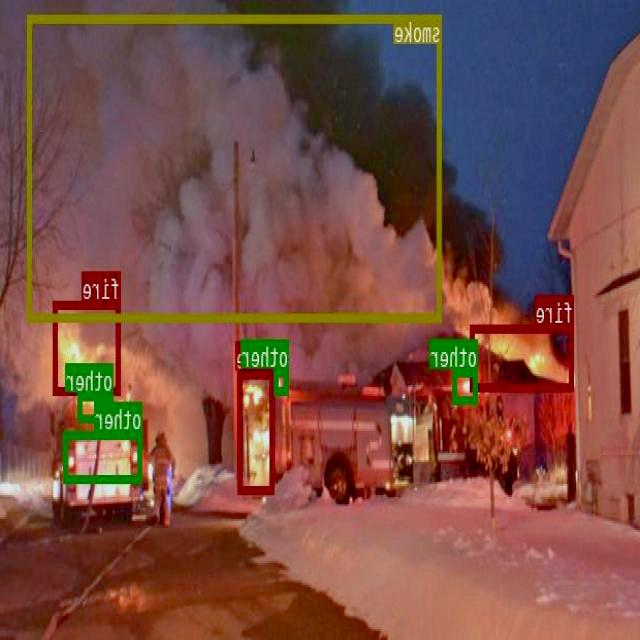fire: (472, 324, 574, 389), (54, 300, 122, 393), (239, 369, 275, 493)
smoke: (29, 14, 442, 320)
